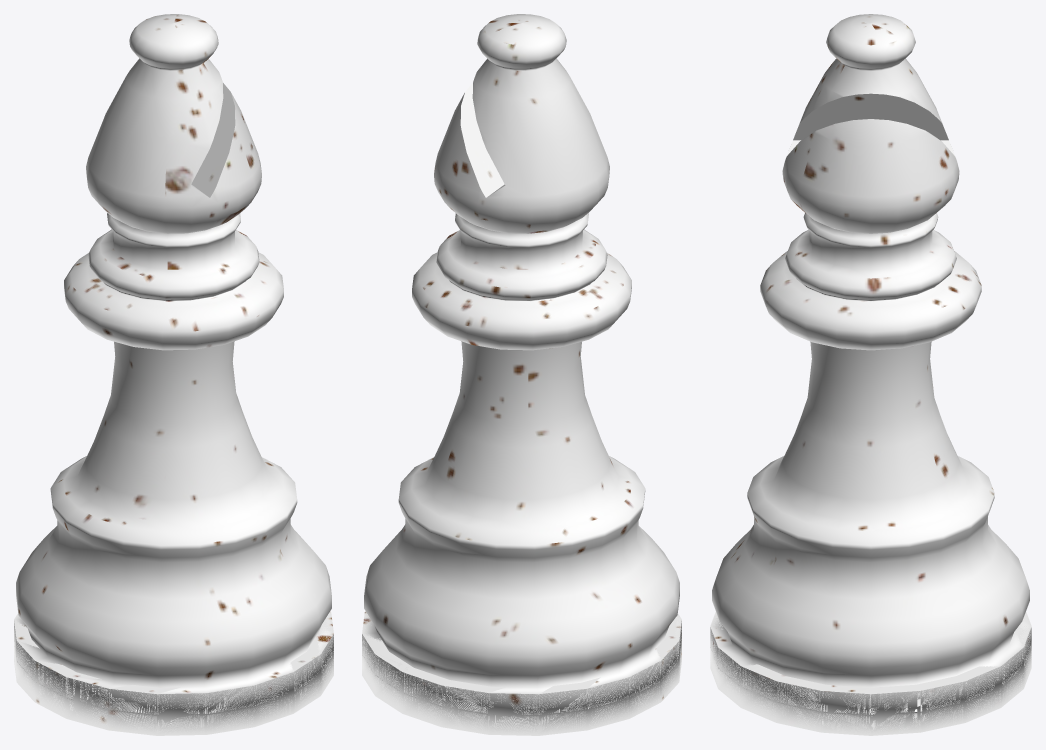
The model's file is Chess Bishop.fbx.
3 views of the same model, side by side, from view 1: azimuth 30°, elevation 25°; view 2: azimuth 150°, elevation 25°; view 3: azimuth 270°, elevation 25° (orthographic).
Visible parts, largest first — view 1: Chess_Bishop; view 2: Chess_Bishop; view 3: Chess_Bishop.
Part boxes in pixels (x1=…): Chess_Bishop: x1=14, y1=14, x2=333, y2=735; Chess_Bishop: x1=362, y1=14, x2=681, y2=735; Chess_Bishop: x1=710, y1=14, x2=1031, y2=735.
Size of the model in its own units: 60.86 by 135 by 60.86.
